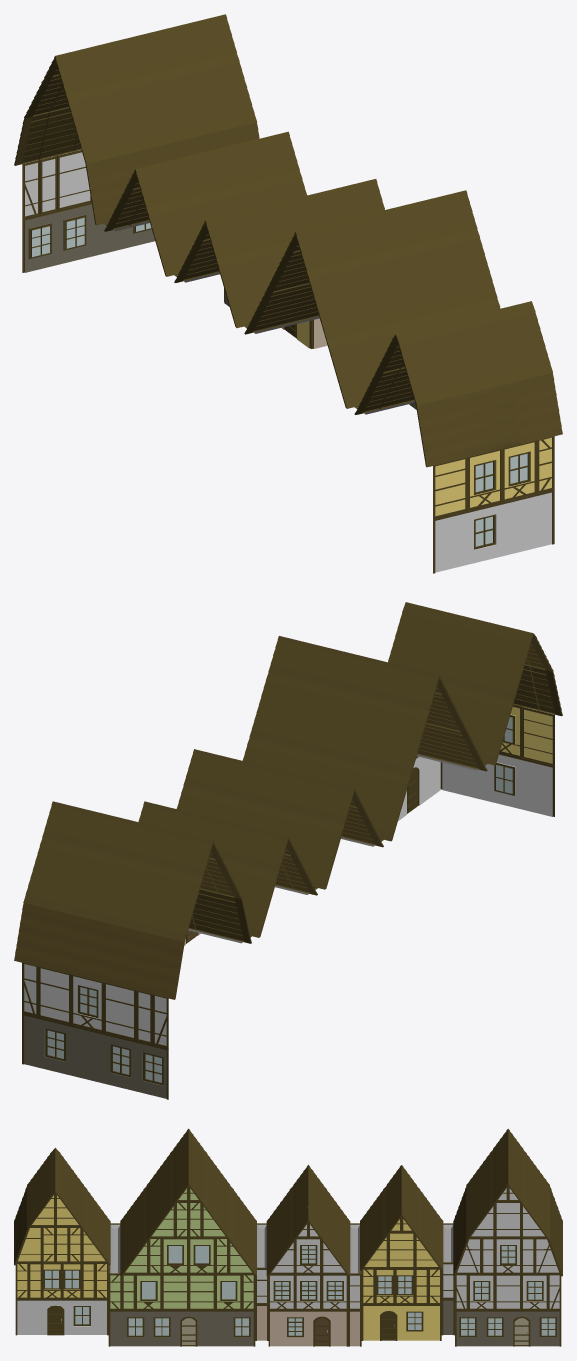
The model's file is HouseRow.fbx.
3 renders of one model, top to bottom at view 1: azimuth 30°, elevation 25°; view 2: azimuth 150°, elevation 25°; view 3: azimuth 270°, elevation 25°, orthographic. The views are drawn at different scales.
Visible parts, largest first — view 1: RoofTile_3M93, RoofTile_3M114, RoofTile_3M117, RoofTile_3M92, RoofTile_3M54, RoofTile_3M43, RoofTile_3M102, RoofTile_3M11, RoofTile_3M90, RoofTile_3M42, RoofTile_3M110, RoofTile_3M2 (+52 smaller); view 2: RoofTile_3M85, RoofTile_3M112, RoofTile_3M83, RoofTile_3M68, RoofTile_3M82, RoofTile_3M69, RoofTile_3M88, RoofTile_3M15, RoofTile_3M113, RoofTile_3M70, RoofTile_3M18, RoofTile_3M17 (+59 smaller); view 3: L_Floor1_Wall_TwoWindows, L_Floor1_Wall_TwoWindows3, Wall_TwoWindows8, Wall_TwoWindows12, Wall_Plaster8, Door1, Wall_Plaster9, Door6, Door4, Door5, Bottom_Wall6, Wall_Plaster3 (+133 smaller).
Boxes of the visible parts, left/top/right/bottom form: RoofTile_3M93: left=331, top=239, right=455, bottom=333; RoofTile_3M114: left=420, top=311, right=510, bottom=399; RoofTile_3M117: left=441, top=383, right=520, bottom=461; RoofTile_3M92: left=320, top=200, right=435, bottom=264; RoofTile_3M54: left=230, top=189, right=342, bottom=252; RoofTile_3M43: left=160, top=142, right=257, bottom=201; RoofTile_3M102: left=490, top=301, right=552, bottom=382; RoofTile_3M11: left=195, top=53, right=256, bottom=132; RoofTile_3M90: left=435, top=229, right=497, bottom=308; RoofTile_3M42: left=171, top=181, right=265, bottom=255; RoofTile_3M110: left=511, top=373, right=562, bottom=444; RoofTile_3M2: left=160, top=63, right=214, bottom=140; RoofTile_3M85: left=289, top=682, right=405, bottom=770; RoofTile_3M112: left=427, top=612, right=510, bottom=694; RoofTile_3M83: left=307, top=645, right=415, bottom=705; RoofTile_3M68: left=223, top=759, right=331, bottom=818; RoofTile_3M82: left=282, top=747, right=386, bottom=821; RoofTile_3M69: left=216, top=795, right=320, bottom=869; RoofTile_3M88: left=249, top=672, right=307, bottom=746; RoofTile_3M15: left=23, top=838, right=81, bottom=912; RoofTile_3M113: left=388, top=602, right=444, bottom=671; RoofTile_3M70: left=178, top=811, right=265, bottom=867; RoofTile_3M18: left=14, top=903, right=62, bottom=970; RoofTile_3M17: left=63, top=847, right=114, bottom=920; L_Floor1_Wall_TwoWindows: left=455, top=1310, right=508, bottom=1346; L_Floor1_Wall_TwoWindows3: left=122, top=1310, right=175, bottom=1346; Wall_TwoWindows8: left=295, top=1274, right=348, bottom=1310; Wall_TwoWindows12: left=162, top=1237, right=215, bottom=1273; Wall_Plaster8: left=188, top=1274, right=215, bottom=1310; Door1: left=508, top=1310, right=534, bottom=1346; Wall_Plaster9: left=162, top=1274, right=188, bottom=1310; Door6: left=175, top=1310, right=201, bottom=1346; Door4: left=375, top=1304, right=401, bottom=1340; Door5: left=308, top=1310, right=334, bottom=1346; Bottom_Wall6: left=202, top=1310, right=228, bottom=1346; Wall_Plaster3: left=495, top=1274, right=521, bottom=1310.
Bounding box in the file's own units: 9.84 × 13.68 × 41.23.
